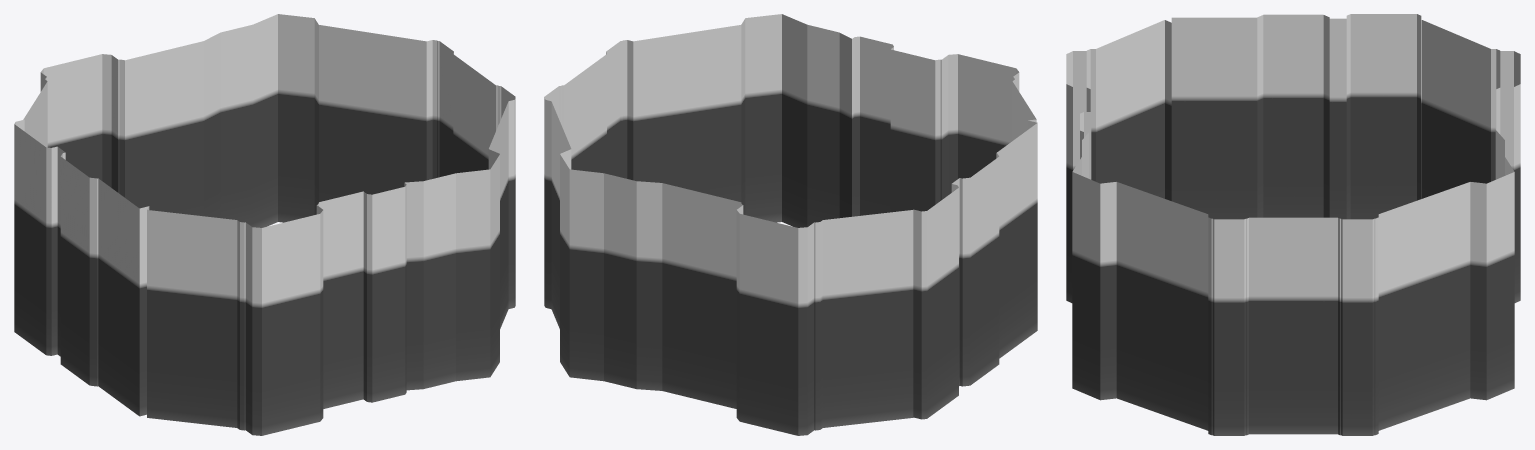
The model's file is yaosaizhufang.FBX.
3 views of the same model, side by side, from view 1: azimuth 30°, elevation 25°; view 2: azimuth 150°, elevation 25°; view 3: azimuth 270°, elevation 25° (orthographic). The views are drawn at different scales.
Visible parts, largest first — view 1: yaosaizhufang; view 2: yaosaizhufang; view 3: yaosaizhufang.
Boxes of the visible parts, x1,y1,x2,y2 form: yaosaizhufang: [14, 14, 515, 435]; yaosaizhufang: [544, 14, 1037, 435]; yaosaizhufang: [1066, 14, 1520, 435].
Size of the model in its own units: 2002 by 1872 by 985.
